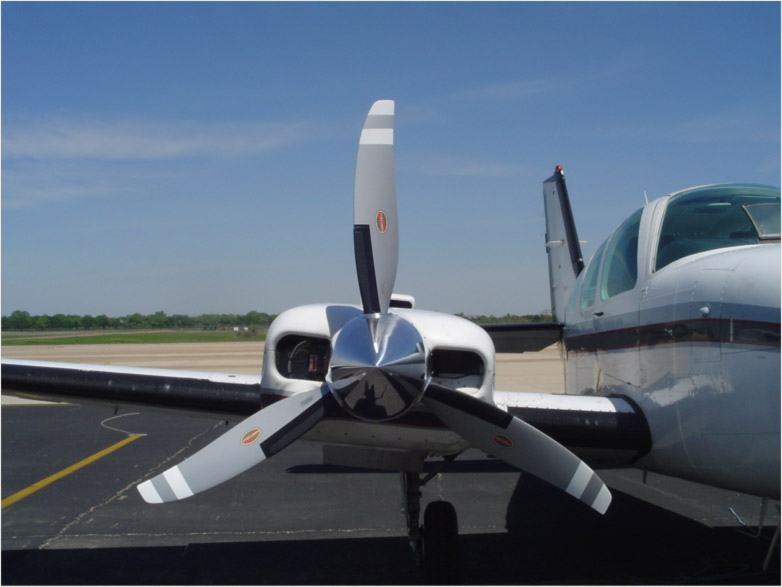Propeller: (149, 101, 518, 526)
